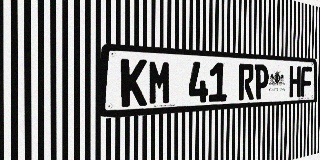1: (209, 62, 227, 102)
4: (189, 61, 208, 103)
F: (301, 66, 312, 97)
H: (289, 66, 301, 97)
K: (121, 58, 147, 107)
M: (148, 60, 171, 105)
P: (254, 64, 269, 99)
R: (239, 64, 254, 100)
